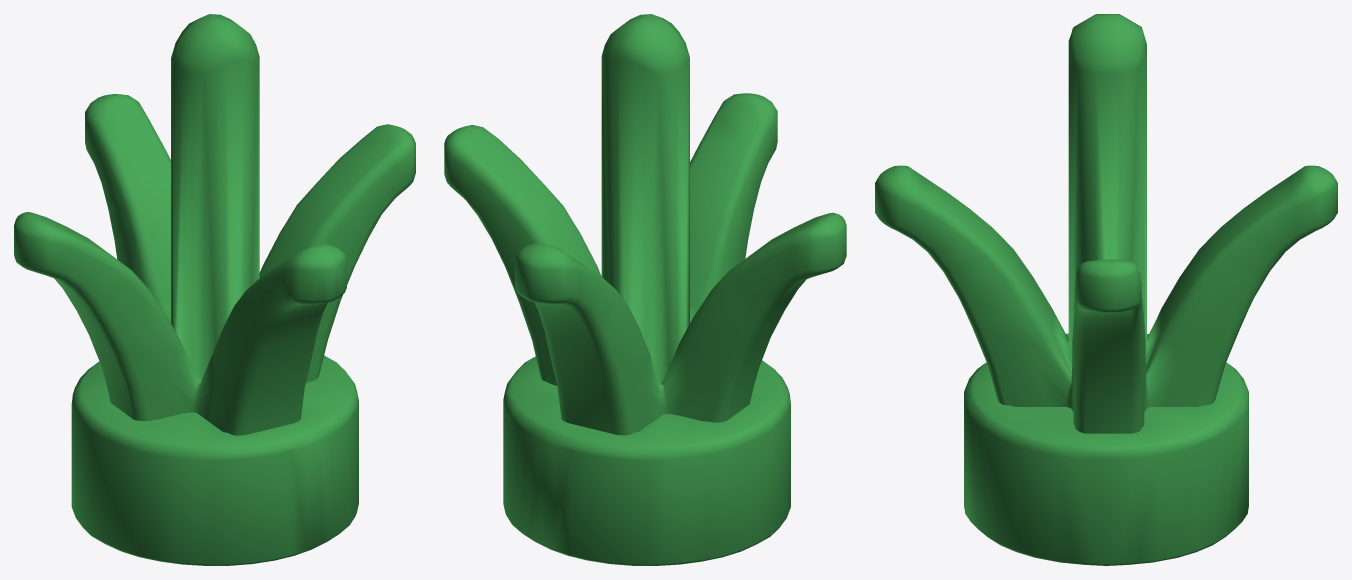
Rendered from grass_2.glb.
The picture shows the model from 3 angles, left to right: view 1: azimuth 30°, elevation 25°; view 2: azimuth 150°, elevation 25°; view 3: azimuth 270°, elevation 25°; orthographic projection.
Parts seen in each view (by area): view 1: grass; view 2: grass; view 3: grass.
Part boxes in pixels (<box>): grass: <box>14,14,415,565</box>; grass: <box>444,14,846,565</box>; grass: <box>875,14,1337,565</box>.
Bounding box in the file's own units: 0.122 × 0.1452 × 0.1241.
